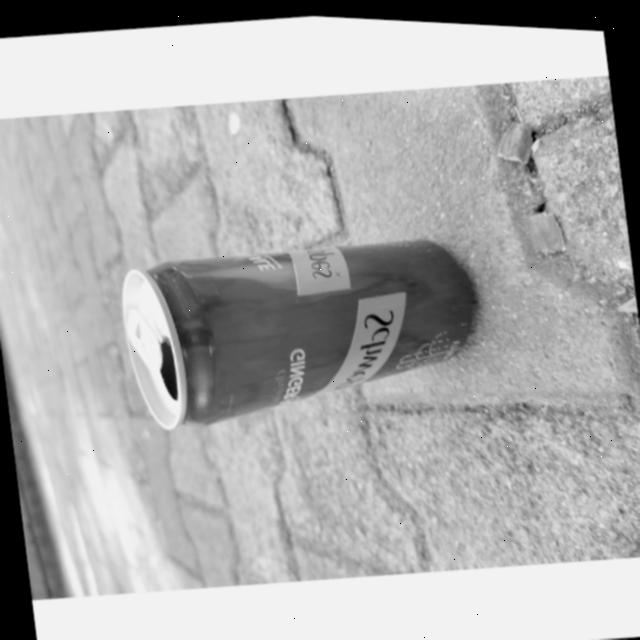Schweppes: (119, 208, 485, 441)
